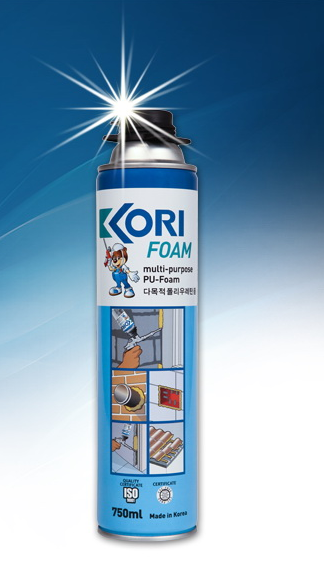Aerosol_cans: (91, 156, 199, 548)
